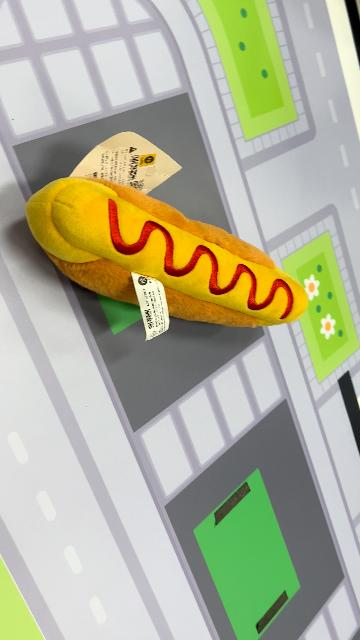hotdog: (25, 175, 310, 331)
